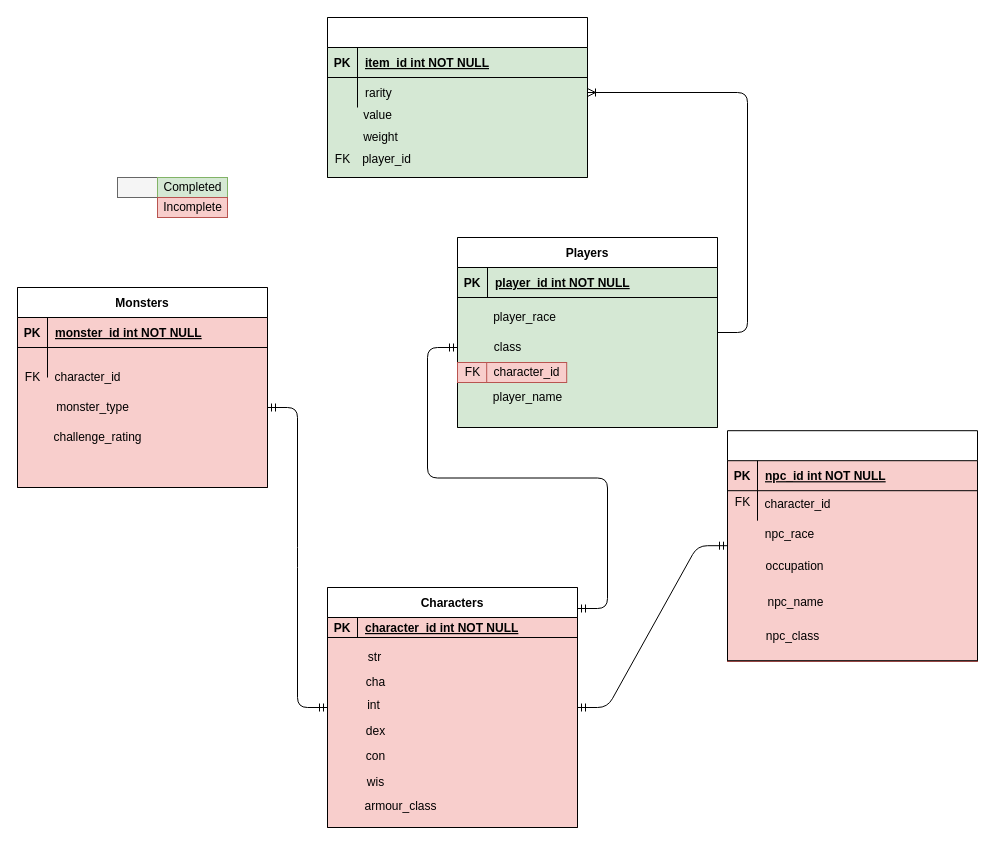
Some shapes in this 995 by 845 pixel diagram are drawn without their labels. Each missing label, with the box of its shape:
Items: (326, 16, 588, 178)
Key: (116, 176, 158, 198)
NPCs: (726, 430, 978, 661)
